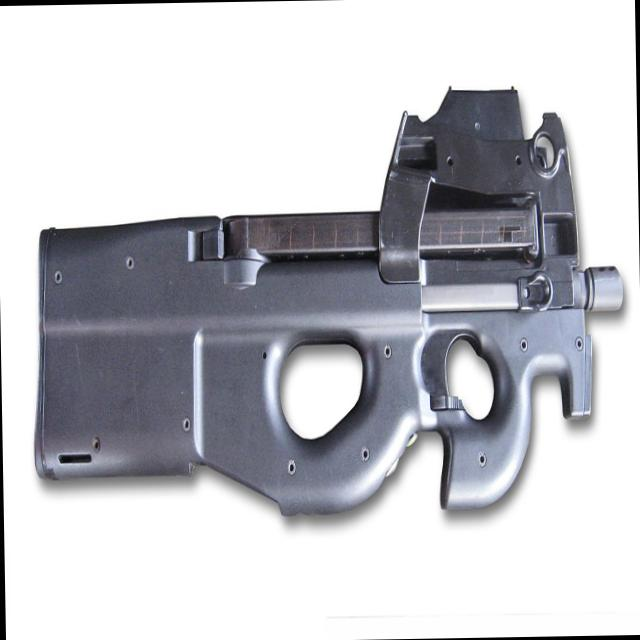Gun: (31, 135, 612, 508)
